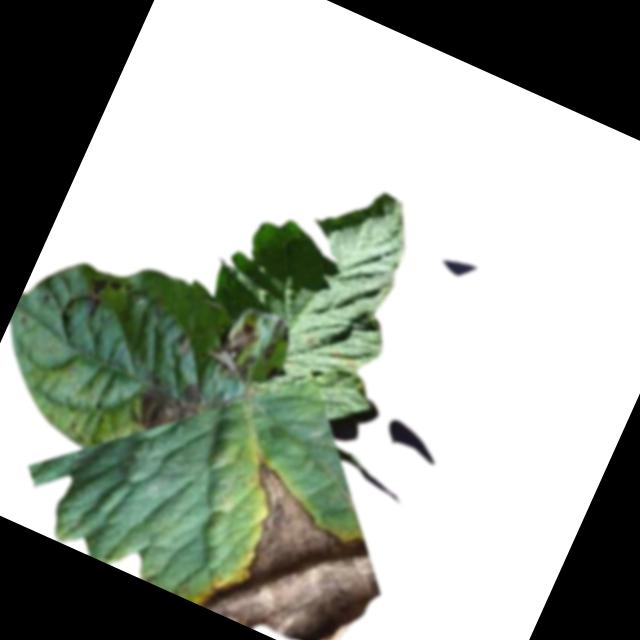Early_blight: (194, 456, 413, 640), (132, 365, 218, 449), (200, 312, 271, 391), (75, 269, 124, 323), (325, 342, 359, 371), (259, 335, 279, 362)
